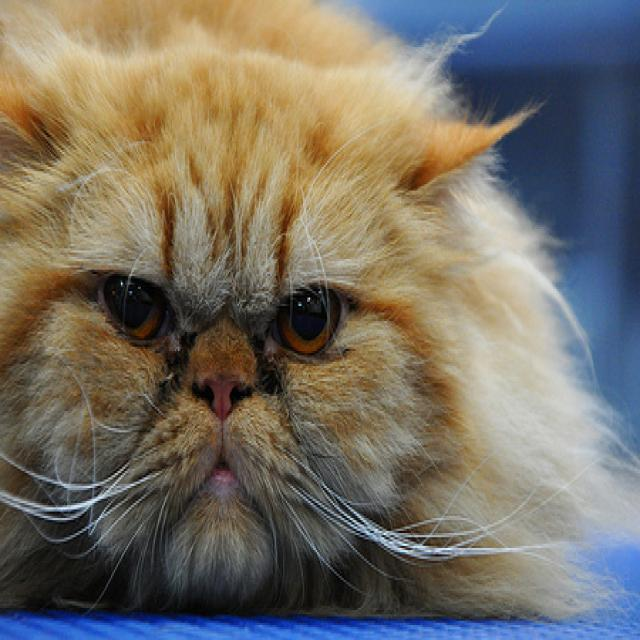Persian: (0, 0, 640, 623)
